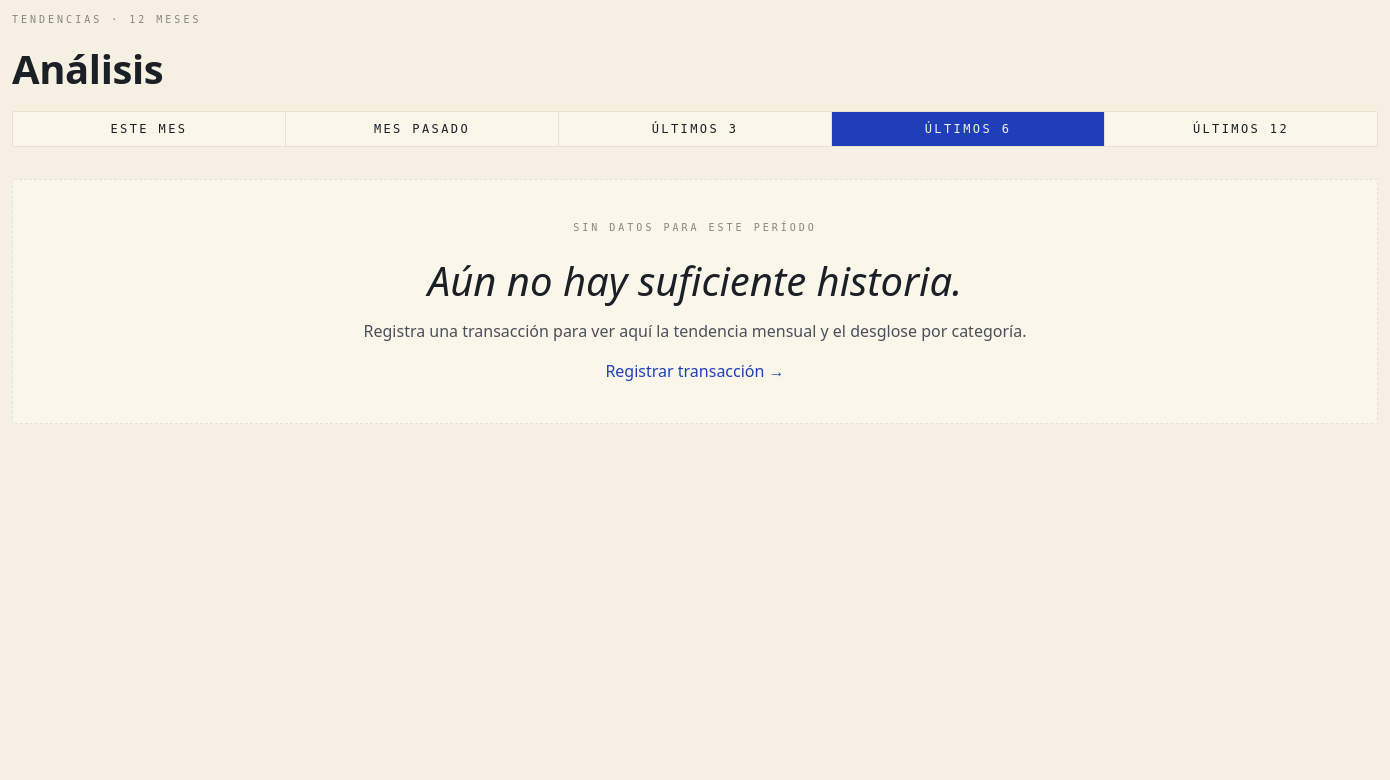
InsightsPage — totals parity with Dashboard (REL-001) › 12-month trend line includes CATEGORIZED + PENDING and excludes FAILED (trend filter)
// Switch to the last_12 view so the trend chart receives the data prop.
Click the button with test id "period-last_12": (1241, 129) [1105,112,1377,146]
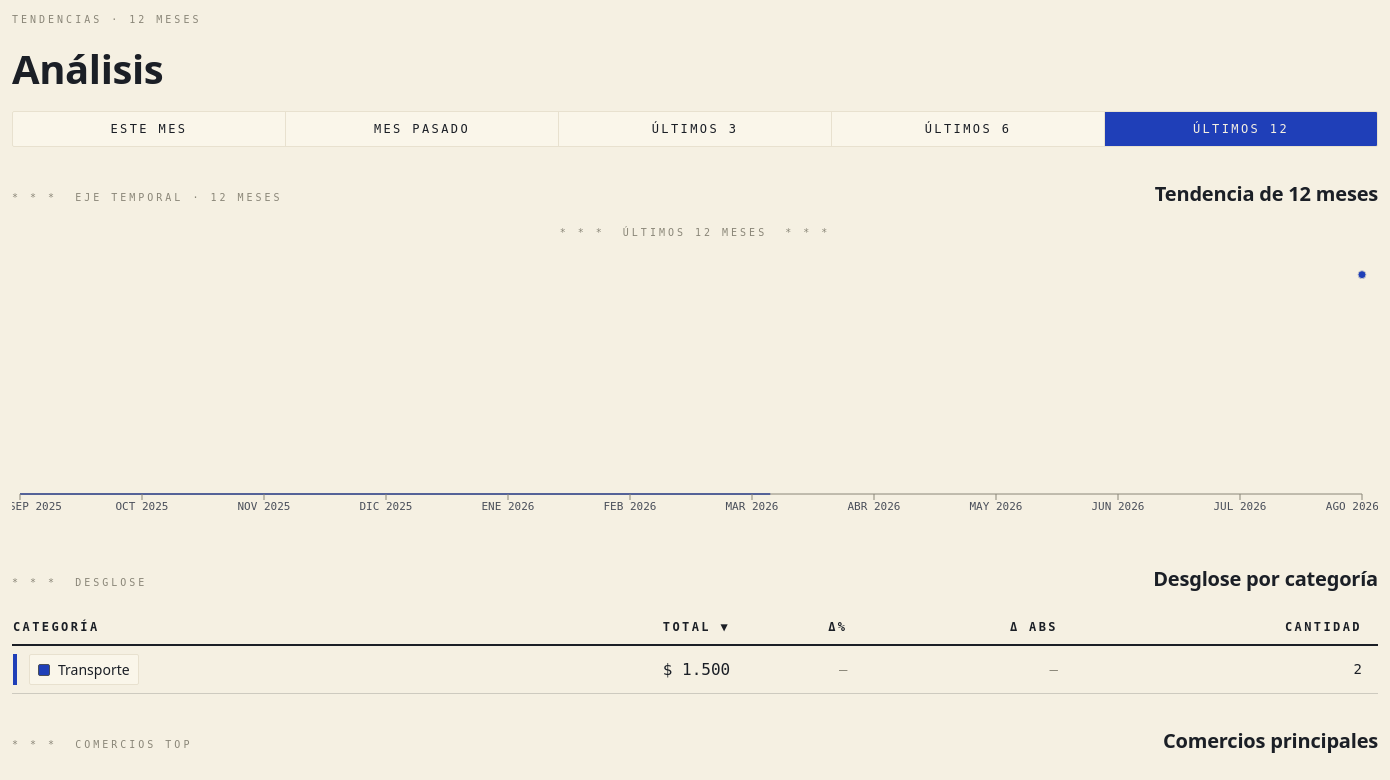
Expected: the row with test id "breakdown-row-c1" is shown, [12,645,1378,694]
